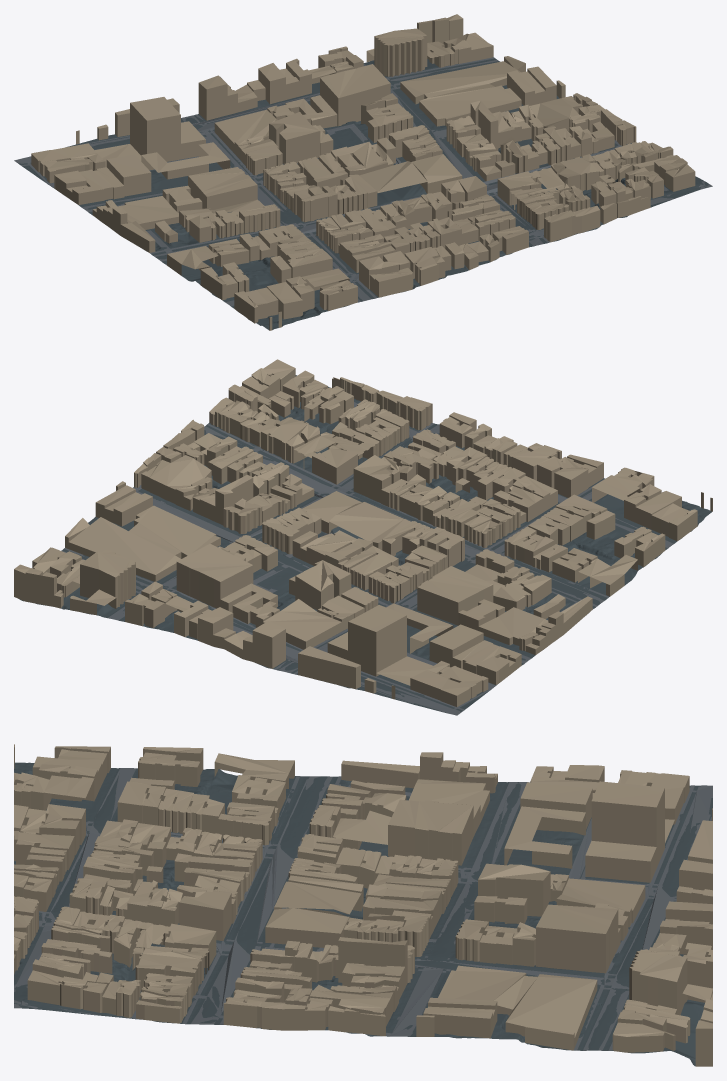
Rendered from epsg26910-1435-10892.lod0.glb.
3 views of the same model, one above another, from view 1: azimuth 30°, elevation 25°; view 2: azimuth 150°, elevation 25°; view 3: azimuth 270°, elevation 25° (orthographic). The views are drawn at different scales.
Parts seen in each view (by area): view 1: epsg26910-1435-10892-lod0; view 2: epsg26910-1435-10892-lod0; view 3: epsg26910-1435-10892-lod0.
Part boxes in pixels (x1,y1,x2,y2): epsg26910-1435-10892-lod0: (14, 14, 712, 330); epsg26910-1435-10892-lod0: (14, 359, 712, 715); epsg26910-1435-10892-lod0: (14, 744, 712, 1066).
Size of the model in its own units: 384 by 56.38 by 384.
